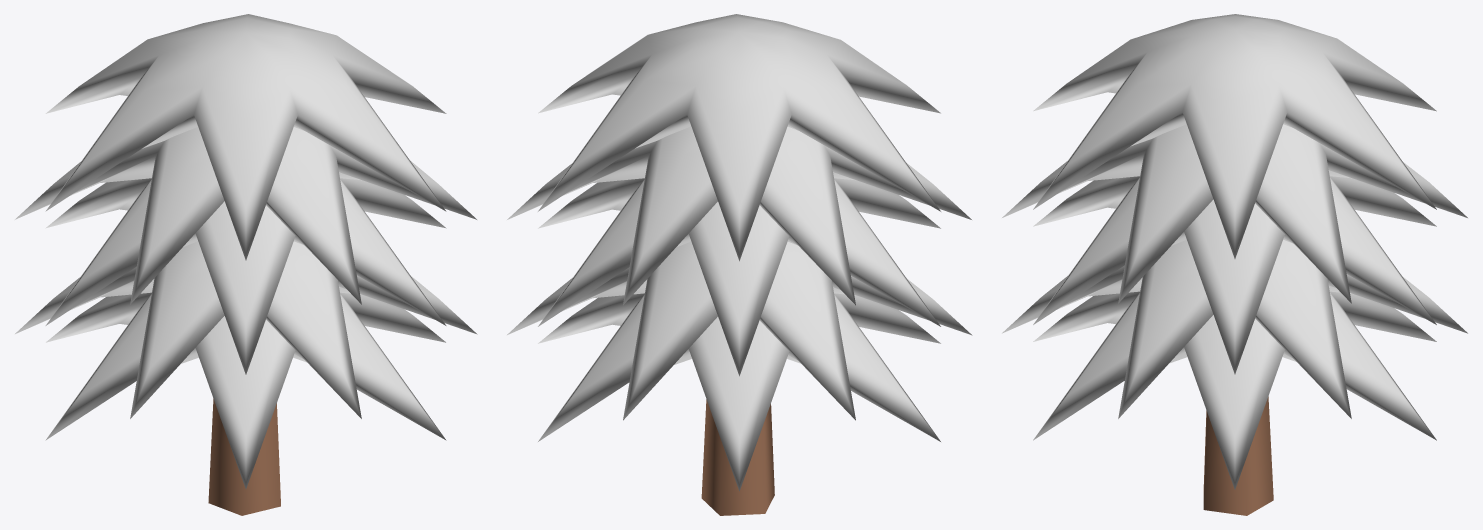
The model's file is Level6.fbx.
The picture shows the model from 3 angles, left to right: view 1: azimuth 30°, elevation 25°; view 2: azimuth 150°, elevation 25°; view 3: azimuth 270°, elevation 25°; orthographic projection.
Parts seen in each view (by area): view 1: pCylinder1, pCylinder3, pCylinder5, pCylinder2, pCylinder4, polySurface153; view 2: pCylinder1, pCylinder3, pCylinder5, pCylinder2, pCylinder4, polySurface153; view 3: pCylinder1, pCylinder3, pCylinder5, pCylinder2, pCylinder4, polySurface153.
Boxes of the visible parts, left/top/right/bottom form: pCylinder1: left=45, top=14, right=446, bottom=260; pCylinder3: left=45, top=178, right=446, bottom=374; pCylinder5: left=45, top=292, right=446, bottom=488; pCylinder2: left=15, top=127, right=476, bottom=304; pCylinder4: left=15, top=241, right=477, bottom=418; polySurface153: left=208, top=398, right=280, bottom=515; pCylinder1: left=538, top=14, right=940, bottom=261; pCylinder3: left=538, top=178, right=940, bottom=376; pCylinder5: left=538, top=293, right=940, bottom=491; pCylinder2: left=507, top=126, right=971, bottom=305; pCylinder4: left=507, top=241, right=972, bottom=420; polySurface153: left=701, top=399, right=774, bottom=515; pCylinder1: left=1033, top=14, right=1436, bottom=258; pCylinder3: left=1033, top=176, right=1436, bottom=374; pCylinder5: left=1033, top=291, right=1436, bottom=489; pCylinder2: left=1002, top=124, right=1467, bottom=303; pCylinder4: left=1002, top=239, right=1467, bottom=418; polySurface153: left=1203, top=396, right=1273, bottom=515.
Size of the model in its own units: 24.55 by 27.26 by 24.55.
